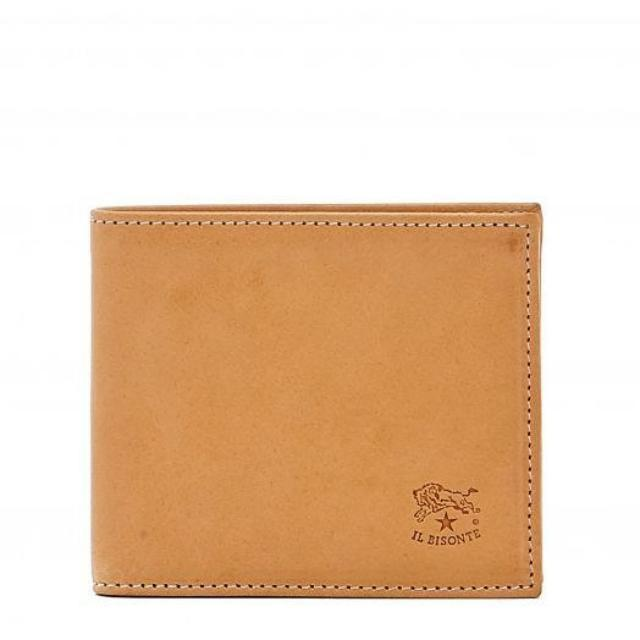wallet: (82, 202, 552, 598)
